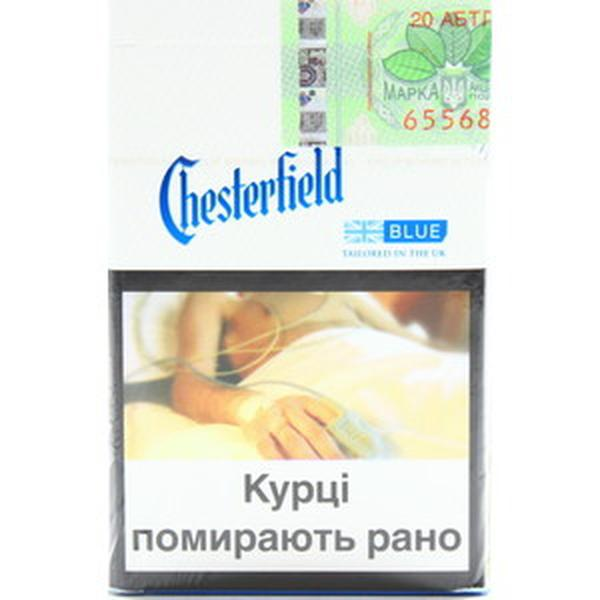chesterfield_blue: (110, 1, 482, 592)
